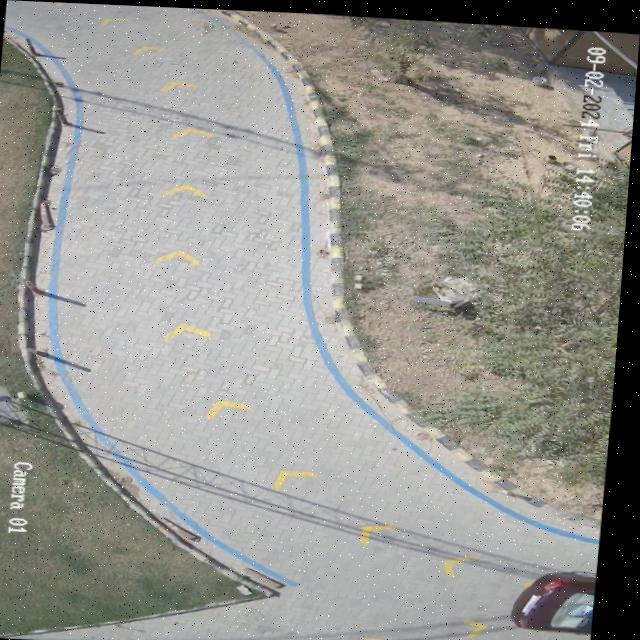car: (520, 566, 604, 628)
